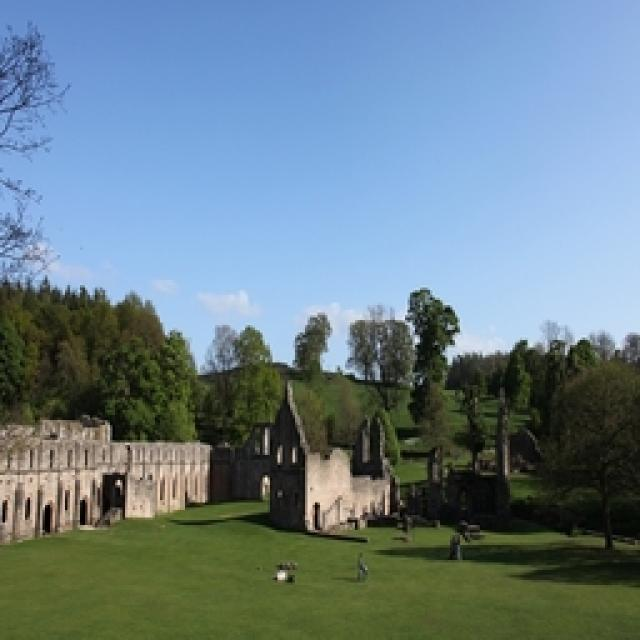Abbey: (1, 414, 408, 544)
